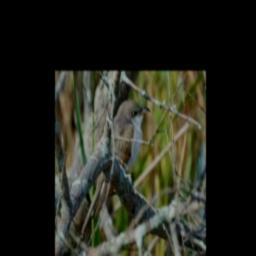Cuckoo: (85, 100, 151, 223)
